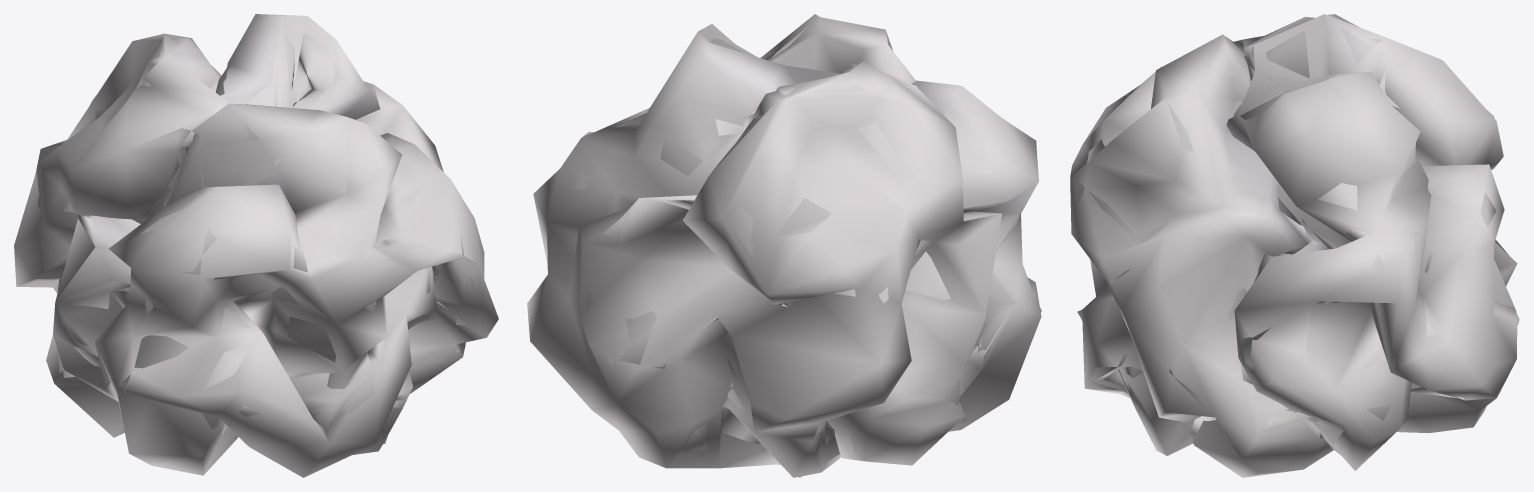
The model's file is crumpled_paper.glb.
3 renders of one model, left to right at view 1: azimuth 30°, elevation 25°; view 2: azimuth 150°, elevation 25°; view 3: azimuth 270°, elevation 25°, orthographic. The views are drawn at different scales.
Visible parts, largest first — view 1: Mesh0; view 2: Mesh0; view 3: Mesh0.
Part boxes in pixels (box(x1,y1,x2,y2)): Mesh0: box(14, 14, 498, 477); Mesh0: box(527, 14, 1041, 477); Mesh0: box(1070, 14, 1519, 477).
Size of the model in its own units: 1.02 by 0.9689 by 1.01.
1 material, 1 textured.
